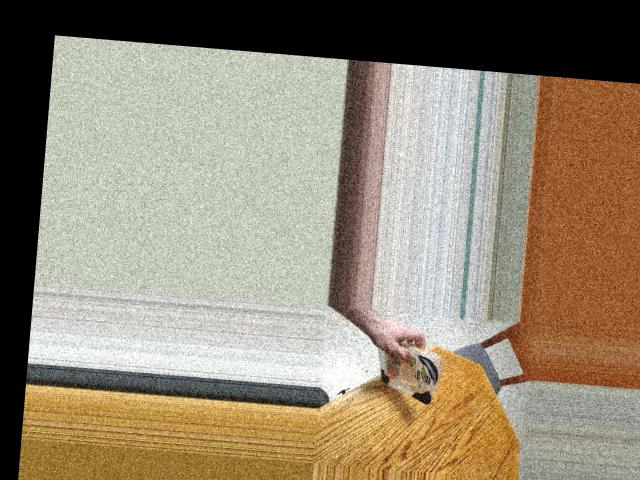cheese: (367, 344, 441, 400)
